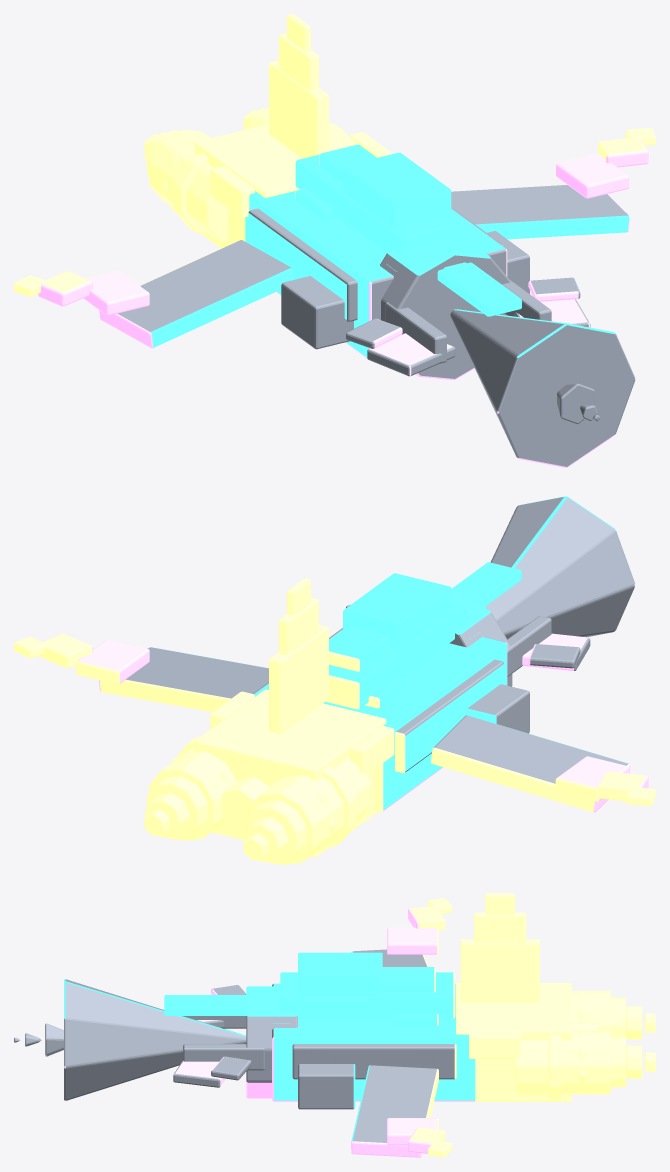
The model's file is Ship_Complete.fbx.
3 views of the same model, one above another, from view 1: azimuth 30°, elevation 25°; view 2: azimuth 150°, elevation 25°; view 3: azimuth 270°, elevation 25° (orthographic). The views are drawn at different scales.
Parts seen in each view (by area): view 1: Ship_Complete_Buffer_v4; view 2: Ship_Complete_Buffer_v4; view 3: Ship_Complete_Buffer_v4.
Boxes of the visible parts, left/top/right/bottom form: Ship_Complete_Buffer_v4: left=14, top=14, right=655, bottom=467; Ship_Complete_Buffer_v4: left=14, top=496, right=655, bottom=864; Ship_Complete_Buffer_v4: left=14, top=893, right=655, bottom=1157.
Size of the model in its own units: 4.39 by 1.65 by 4.7.
